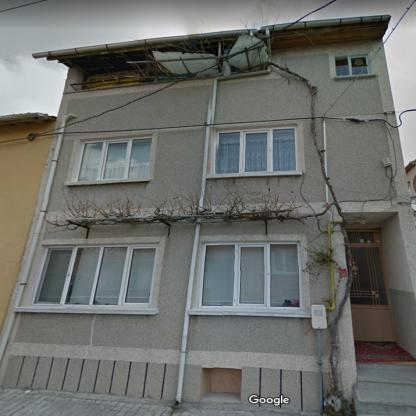door: (347, 230, 396, 341)
window: (31, 245, 156, 307), (197, 242, 300, 310), (214, 126, 297, 176), (72, 134, 150, 183), (336, 54, 369, 77)
